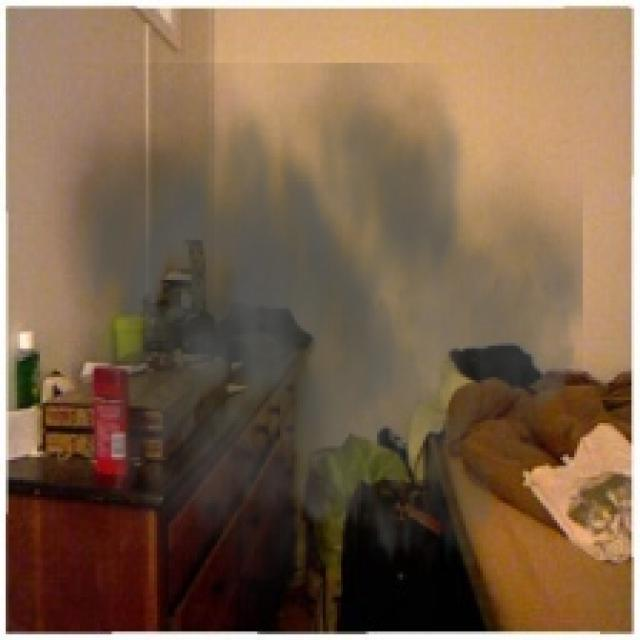Smoke: (34, 63, 583, 623)
